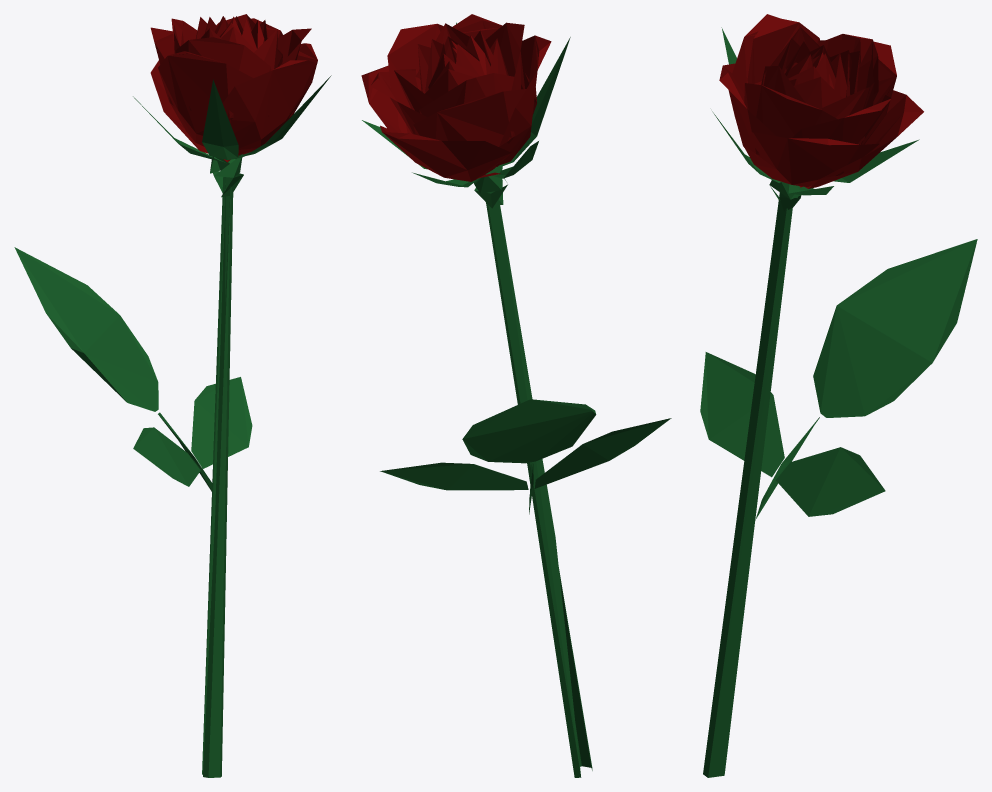
File: rose.obj
The picture shows the model from 3 angles, left to right: view 1: azimuth 30°, elevation 25°; view 2: azimuth 150°, elevation 25°; view 3: azimuth 270°, elevation 25°; orthographic projection. The views are drawn at different scales.
Visible parts, largest first — view 1: Object002, Object003; view 2: Object002, Object003; view 3: Object002, Object003.
Boxes of the visible parts, <box> form: Object002: <box>133,14,331,777</box>; Object003: <box>14,247,252,491</box>; Object002: <box>361,14,592,777</box>; Object003: <box>380,399,671,514</box>; Object002: <box>703,14,923,777</box>; Object003: <box>700,239,977,519</box>.
Bounding box in the file's own units: 160 × 461 × 150.
